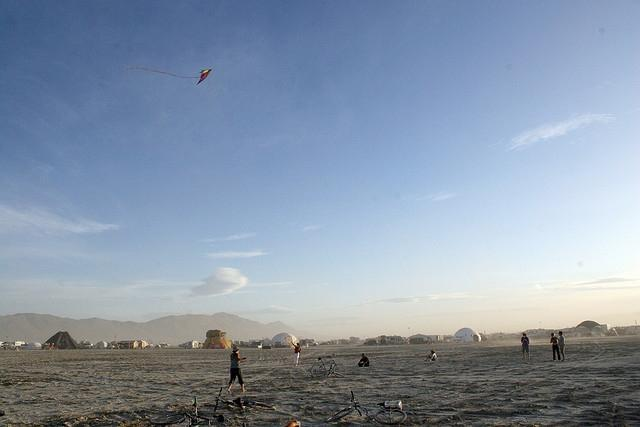bicycle: (328, 389, 408, 424), (309, 354, 347, 378)
